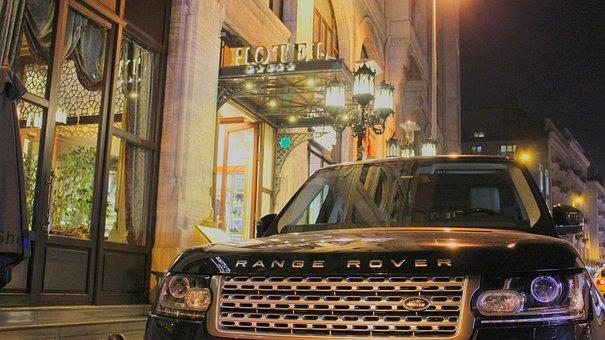range rover: (229, 248, 467, 274)
